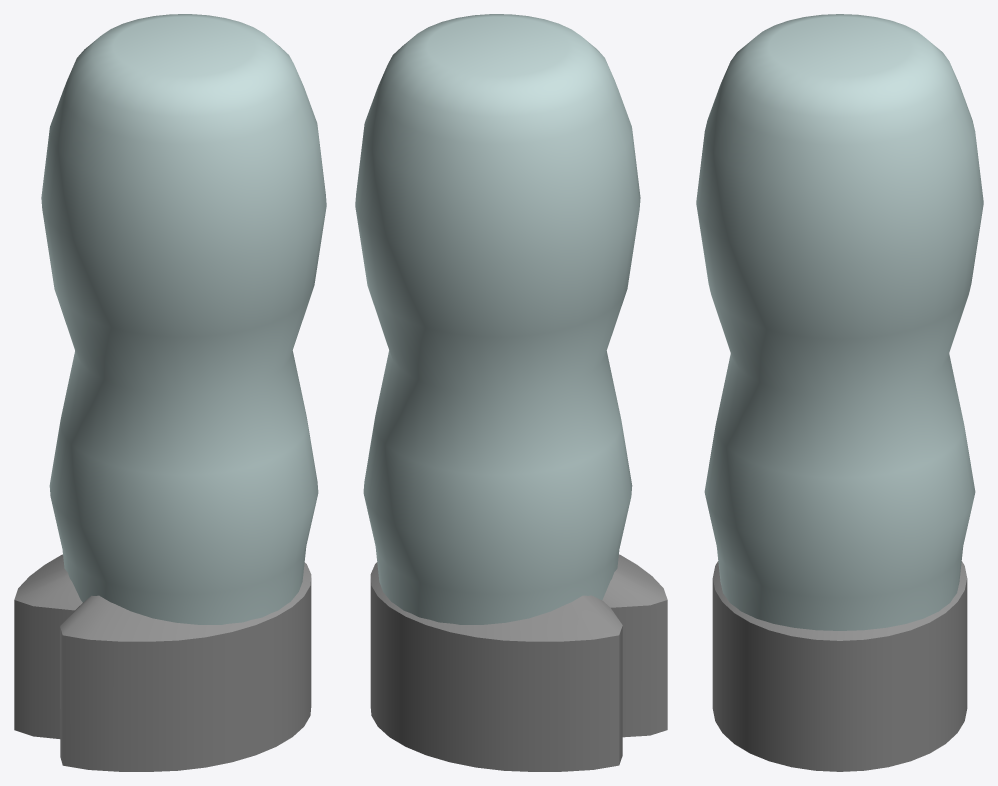
Rendered from Hooves.fbx.
The picture shows the model from 3 angles, left to right: view 1: azimuth 30°, elevation 25°; view 2: azimuth 150°, elevation 25°; view 3: azimuth 270°, elevation 25°; orthographic projection.
Parts seen in each view (by area): view 1: Cylinder; view 2: Cylinder; view 3: Cylinder.
Part boxes in pixels (box(x1,y1,x2,y2)): Cylinder: box(14, 14, 326, 771); Cylinder: box(355, 14, 667, 771); Cylinder: box(696, 14, 983, 771).
Bounding box in the file's own units: 210 × 496 × 193.
